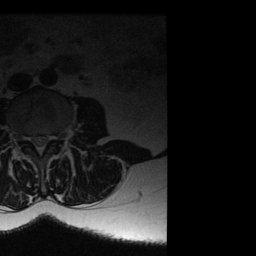CCS_normal: (36, 128, 43, 162)
LFS_stenosis: (50, 127, 58, 148)
LLS_normal: (44, 128, 50, 152)
RFS_stenosis: (22, 127, 29, 147)
RLS_normal: (29, 128, 36, 152)
